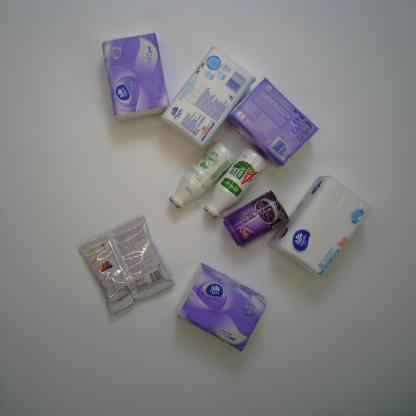Canned Food: (222, 189, 290, 249)
Instant Drink: (78, 214, 175, 316)
Milk: (168, 141, 236, 211), (203, 147, 267, 220)
Tissue: (268, 175, 373, 279), (160, 46, 257, 150), (225, 76, 320, 169), (175, 263, 267, 352), (100, 32, 171, 122)
